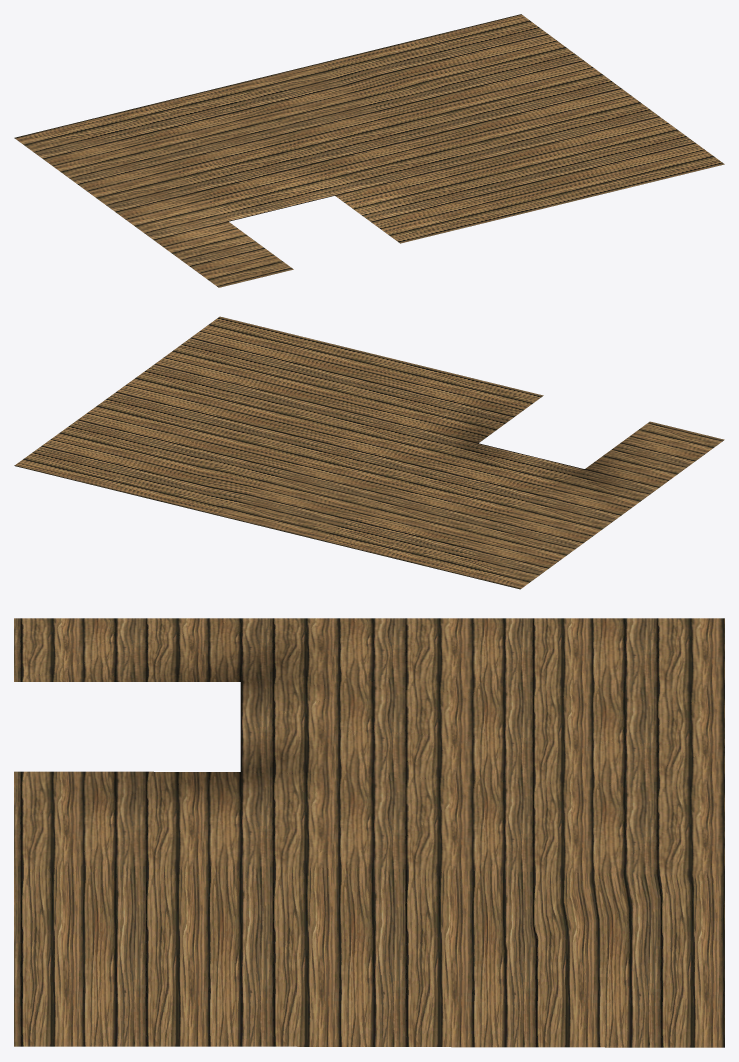
Rendered from LAKETOWN_EXTERIOR_PS_LT_PIER_WOOD04.fbx.
3 views of the same model, one above another, from view 1: azimuth 30°, elevation 25°; view 2: azimuth 150°, elevation 25°; view 3: azimuth 270°, elevation 25° (orthographic). The views are drawn at different scales.
Visible parts, largest first — view 1: LAKETOWN_EXTERIOR_PS_LT_PIER_WOOD04; view 2: LAKETOWN_EXTERIOR_PS_LT_PIER_WOOD04; view 3: LAKETOWN_EXTERIOR_PS_LT_PIER_WOOD04.
Part boxes in pixels (x1,y1,x2,y2): LAKETOWN_EXTERIOR_PS_LT_PIER_WOOD04: (14, 14, 724, 287); LAKETOWN_EXTERIOR_PS_LT_PIER_WOOD04: (14, 316, 724, 589); LAKETOWN_EXTERIOR_PS_LT_PIER_WOOD04: (14, 618, 724, 1047).
Bounding box in the file's own units: 167525 × 0.0305 × 117197.
Materials: 1 (1 with a texture image).
